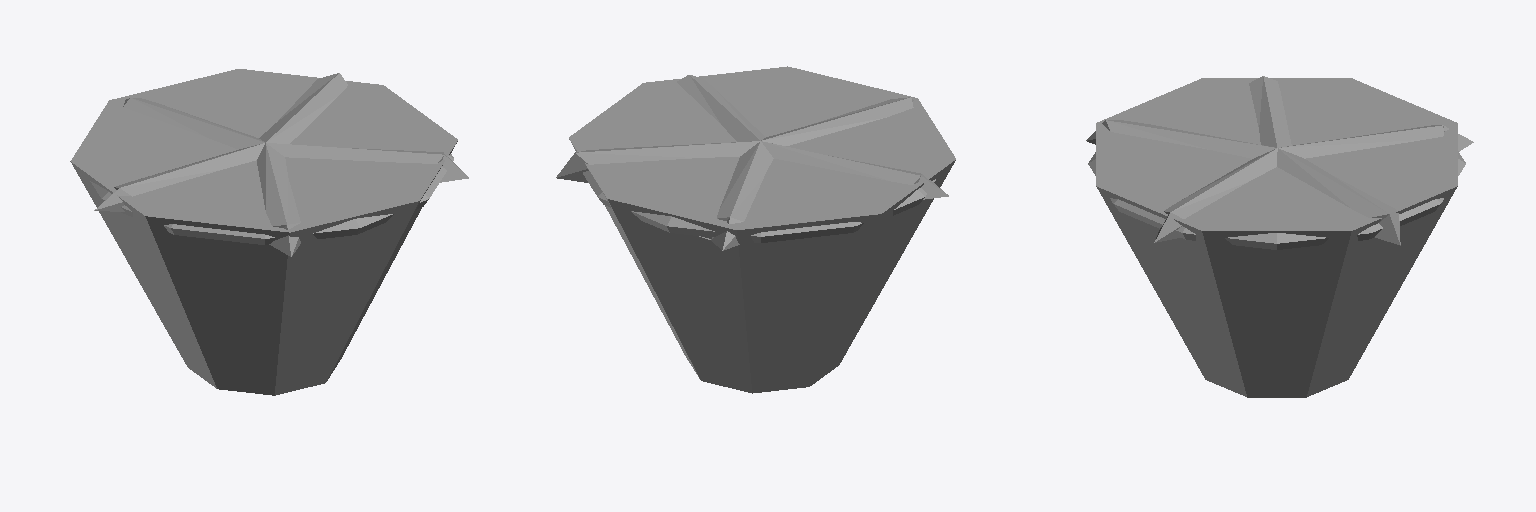
The model's file is basic_table.obj.
3 renders of one model, left to right at view 1: azimuth 30°, elevation 25°; view 2: azimuth 150°, elevation 25°; view 3: azimuth 270°, elevation 25°, orthographic.
Parts seen in each view (by area): view 1: basic_table_coll, basic_table; view 2: basic_table_coll, basic_table; view 3: basic_table_coll, basic_table.
Boxes of the visible parts, <box> form: basic_table_coll: <box>70,69,457,395</box>; basic_table: <box>90,73,468,256</box>; basic_table_coll: <box>569,66,955,393</box>; basic_table: <box>556,75,948,250</box>; basic_table_coll: <box>1096,78,1457,397</box>; basic_table: <box>1086,76,1473,249</box>.
Bounding box in the file's own units: 2.42 × 1.51 × 2.37.